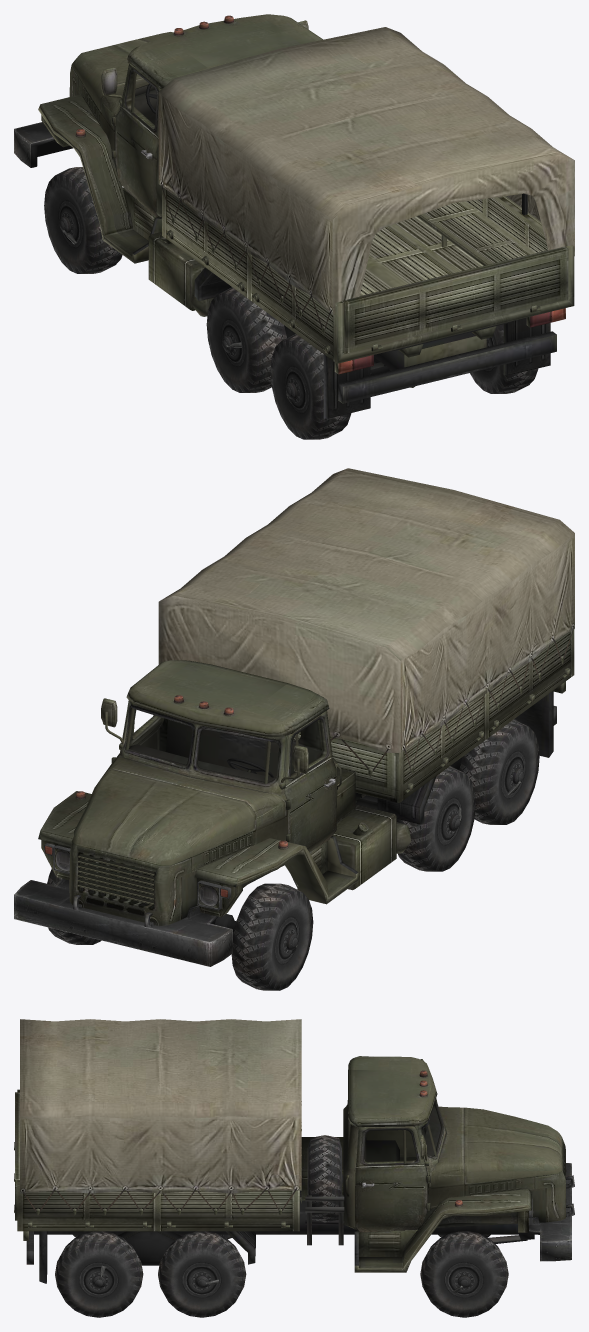
The model's file is ural4320.glb.
3 views of the same model, one above another, from view 1: azimuth 30°, elevation 25°; view 2: azimuth 150°, elevation 25°; view 3: azimuth 270°, elevation 25° (orthographic). The views are drawn at different scales.
Parts seen in each view (by area): view 1: ural4320; view 2: ural4320; view 3: ural4320.
Boxes of the visible parts, x1,y1,x2,y2 form: ural4320: (14, 14, 574, 439); ural4320: (14, 468, 574, 990); ural4320: (14, 1019, 574, 1317).
Bounding box in the file's own units: 2.98 × 3.19 × 7.37.
1 material, 1 textured.
